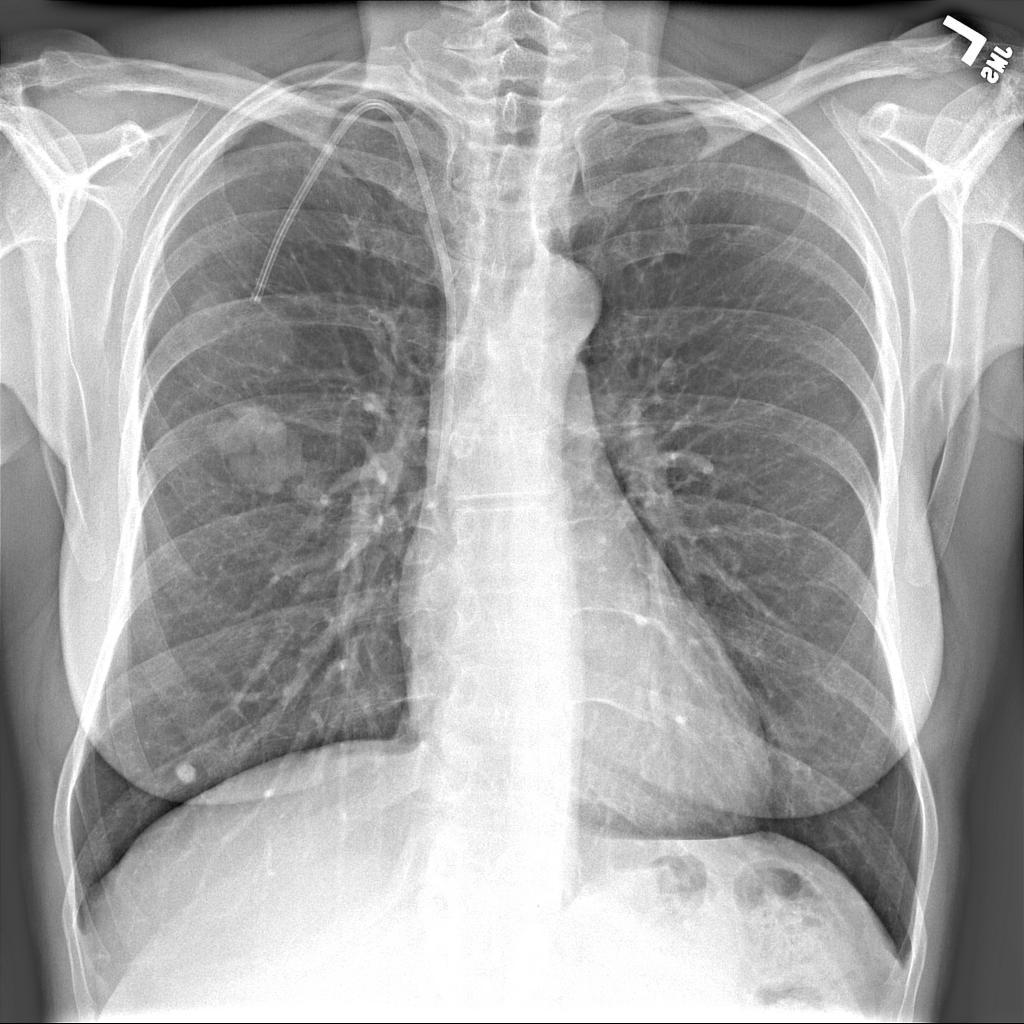Nodule: (200, 393, 308, 503), (164, 757, 207, 792)
